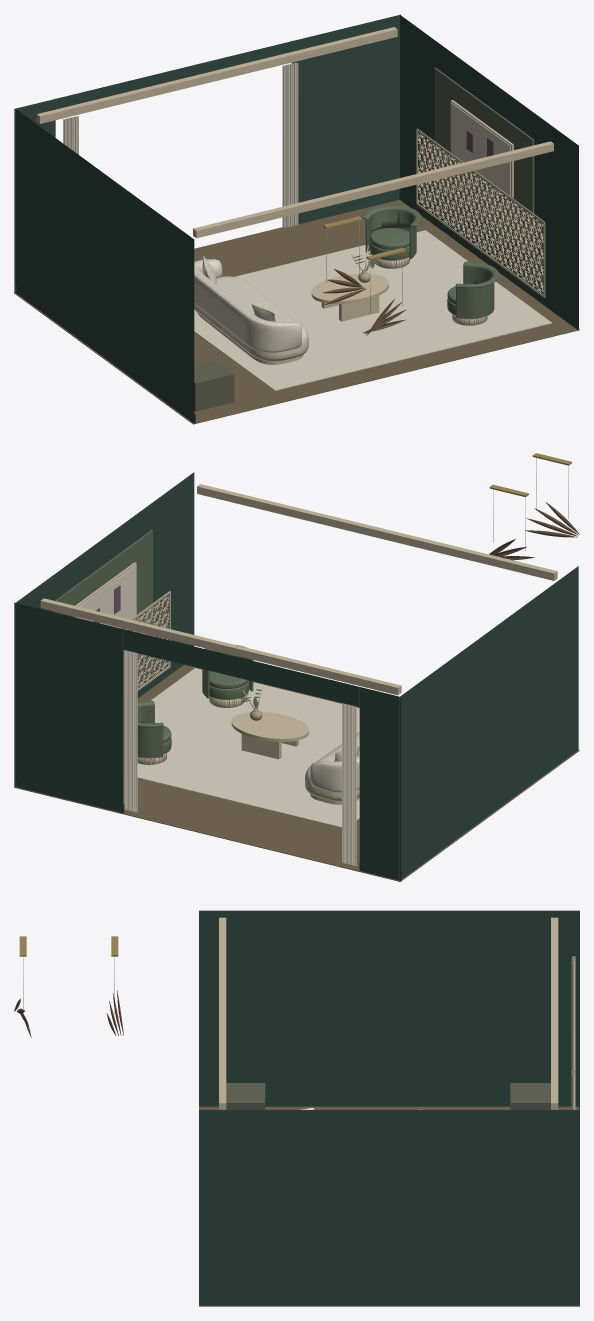
The model's file is great-3.glb.
3 renders of one model, top to bottom at view 1: azimuth 30°, elevation 25°; view 2: azimuth 150°, elevation 25°; view 3: azimuth 270°, elevation 25°, orthographic. The views are drawn at different scales.
Visible parts, largest first — view 1: DESIGN | great removable wall finish, DESIGN | Great room primary ground, DESIGN | great floor finish, DESIGN | Kumiko | Great room low craft datum, DESIGN | Great room sofa facing conversation, DESIGN | Garden salon fabric wall field, DESIGN | Garden salon perimeter timber.001, DESIGN | Garden salon perimeter timber, DESIGN | Required Bellustar swivel chair two, DESIGN | Great room soft window edge.001, DESIGN | Textile artwork.002, DESIGN | Required Bellustar swivel chair one (+4 smaller); view 2: DESIGN | great removable wall finish, DESIGN | Great room primary ground, DESIGN | great floor finish, DESIGN | Garden salon perimeter timber.001, DESIGN | Garden salon perimeter timber, DESIGN | Garden salon fabric wall field, DESIGN | Great room soft window edge, DESIGN | Great room soft window edge.001, DESIGN | Great room sofa facing conversation, DESIGN | Great room conversation table top, DESIGN | Required Bellustar swivel chair two, DESIGN | Textile artwork.002 (+4 smaller); view 3: DESIGN | great removable wall finish, DESIGN | great floor finish, DESIGN | Garden salon perimeter timber, DESIGN | Garden salon perimeter timber.001, DESIGN | Great room low stone display.001, DESIGN | Great room low stone display, DESIGN | Great room soft window edge.
Part boxes in pixels (box(x1,y1,x2,y2)): DESIGN | great removable wall finish: box(14, 14, 578, 423); DESIGN | Great room primary ground: box(194, 230, 551, 390); DESIGN | great floor finish: box(14, 200, 579, 424); DESIGN | Kumiko | Great room low craft datum: box(416, 128, 545, 297); DESIGN | Great room sofa facing conversation: box(194, 256, 308, 364); DESIGN | Garden salon fabric wall field: box(434, 67, 534, 255); DESIGN | Garden salon perimeter timber.001: box(36, 27, 397, 123); DESIGN | Garden salon perimeter timber: box(193, 141, 553, 238); DESIGN | Required Bellustar swivel chair two: box(361, 205, 421, 268); DESIGN | Great room soft window edge.001: box(282, 62, 298, 228); DESIGN | Textile artwork.002: box(450, 102, 510, 195); DESIGN | Required Bellustar swivel chair one: box(447, 261, 499, 325); DESIGN | great removable wall finish: box(14, 472, 578, 880); DESIGN | Great room primary ground: box(137, 668, 359, 827); DESIGN | great floor finish: box(14, 664, 579, 881); DESIGN | Garden salon perimeter timber.001: box(40, 598, 401, 695); DESIGN | Garden salon perimeter timber: box(197, 484, 557, 580); DESIGN | Garden salon fabric wall field: box(53, 530, 152, 656); DESIGN | Great room soft window edge: box(342, 703, 356, 866); DESIGN | Great room soft window edge.001: box(123, 650, 137, 812); DESIGN | Great room sofa facing conversation: box(305, 732, 359, 804); DESIGN | Great room conversation table top: box(231, 711, 308, 741); DESIGN | Required Bellustar swivel chair two: box(137, 700, 171, 764); DESIGN | Textile artwork.002: box(76, 565, 136, 627); DESIGN | great removable wall finish: box(199, 910, 579, 1305); DESIGN | great floor finish: box(199, 1106, 579, 1306); DESIGN | Garden salon perimeter timber: box(219, 917, 226, 1109); DESIGN | Garden salon perimeter timber.001: box(551, 917, 558, 1109); DESIGN | Great room low stone display.001: box(510, 1083, 550, 1109); DESIGN | Great room low stone display: box(226, 1083, 265, 1109); DESIGN | Great room soft window edge: box(571, 956, 575, 1070).
Bounding box in the file's own units: 6 × 3.04 × 7.16.
